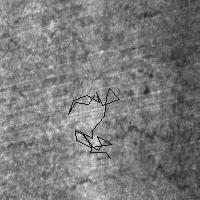crazing: (5, 120, 172, 194), (169, 49, 200, 199), (68, 88, 119, 158)
